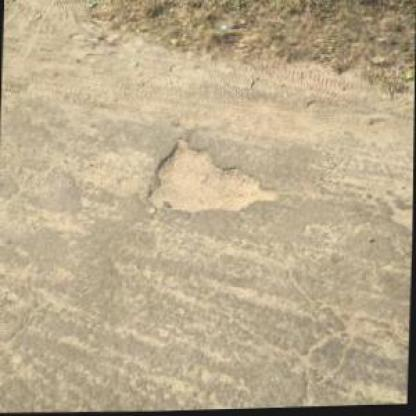pothole: (144, 130, 283, 220)
